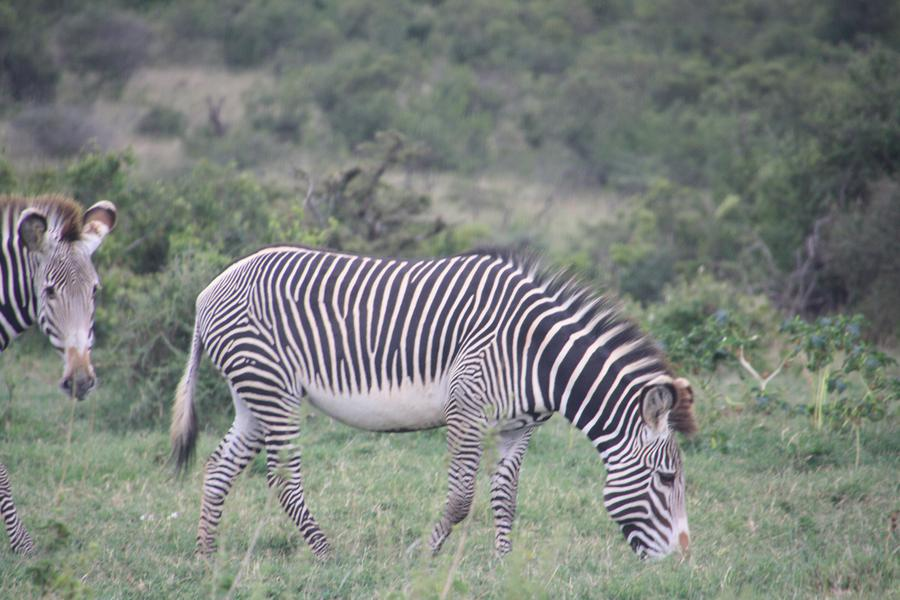zebra_grevys: (180, 234, 525, 440)
